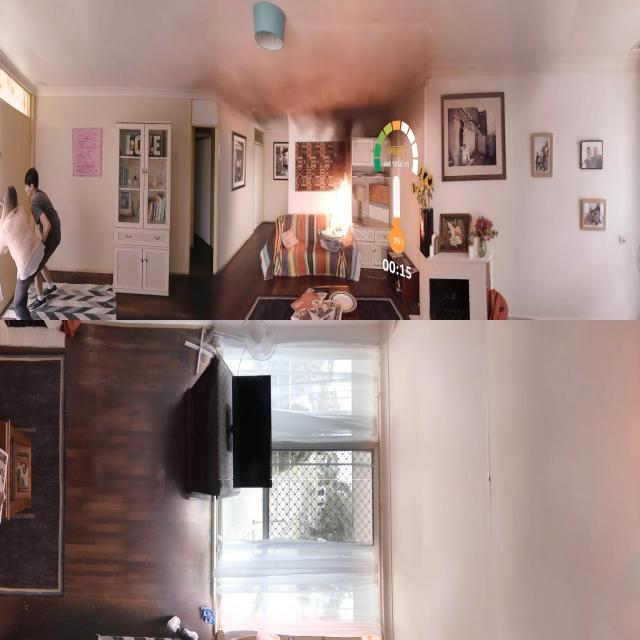Fire: (306, 173, 401, 295)
